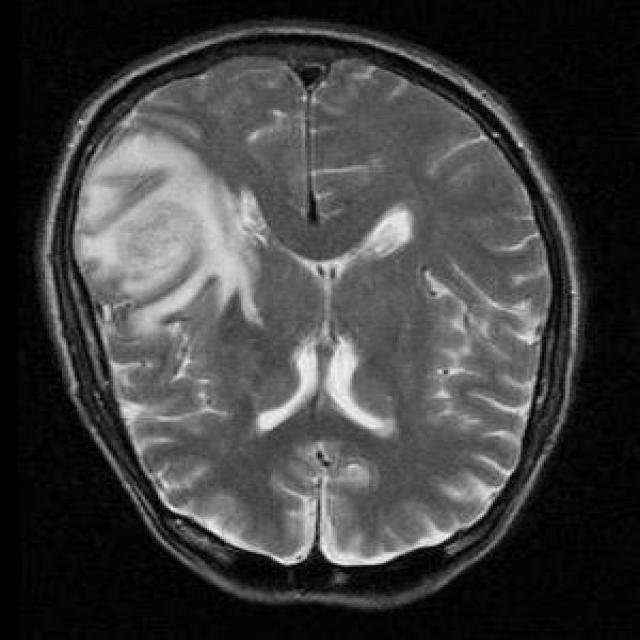Tumor-Cell: (74, 129, 308, 352)
